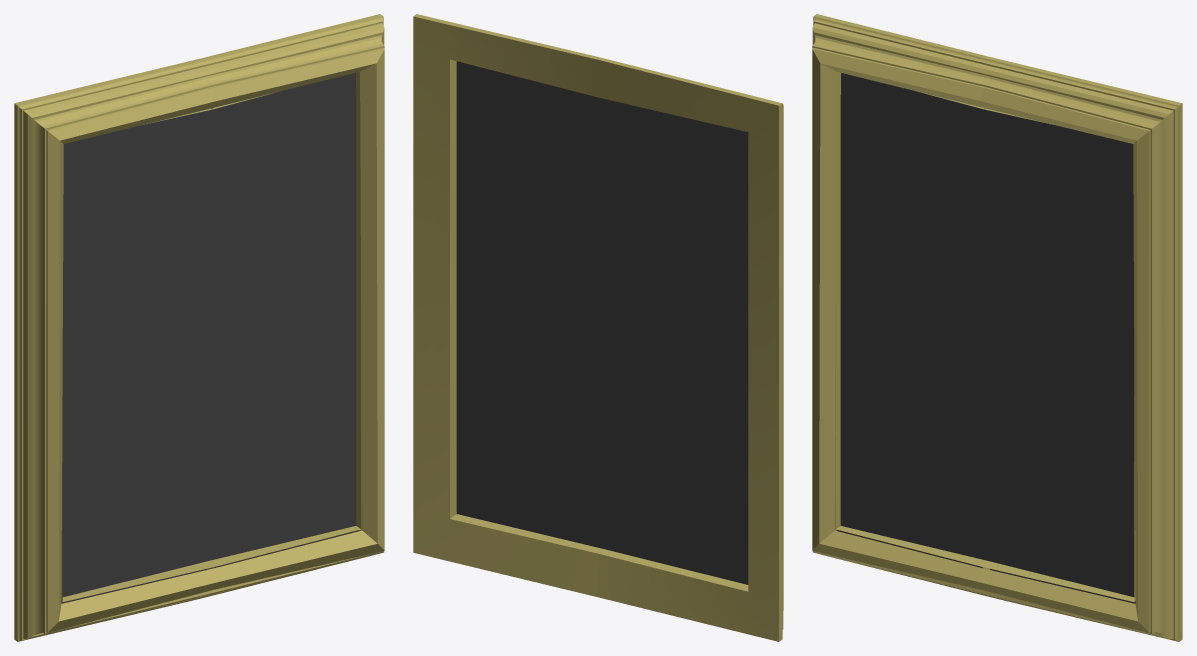
The model's file is Quadro_A02.fbx.
The picture shows the model from 3 angles, left to right: view 1: azimuth 30°, elevation 25°; view 2: azimuth 150°, elevation 25°; view 3: azimuth 330°, elevation 25°; orthographic projection.
Parts seen in each view (by area): view 1: Quadro Biblioteca; view 2: Quadro Biblioteca; view 3: Quadro Biblioteca.
Part boxes in pixels (box(x1,y1,x2,y2)): Quadro Biblioteca: box(14, 14, 384, 641); Quadro Biblioteca: box(413, 14, 783, 641); Quadro Biblioteca: box(812, 14, 1182, 641).
Bounding box in the file's own units: 60.74 × 85.23 × 6.19.
